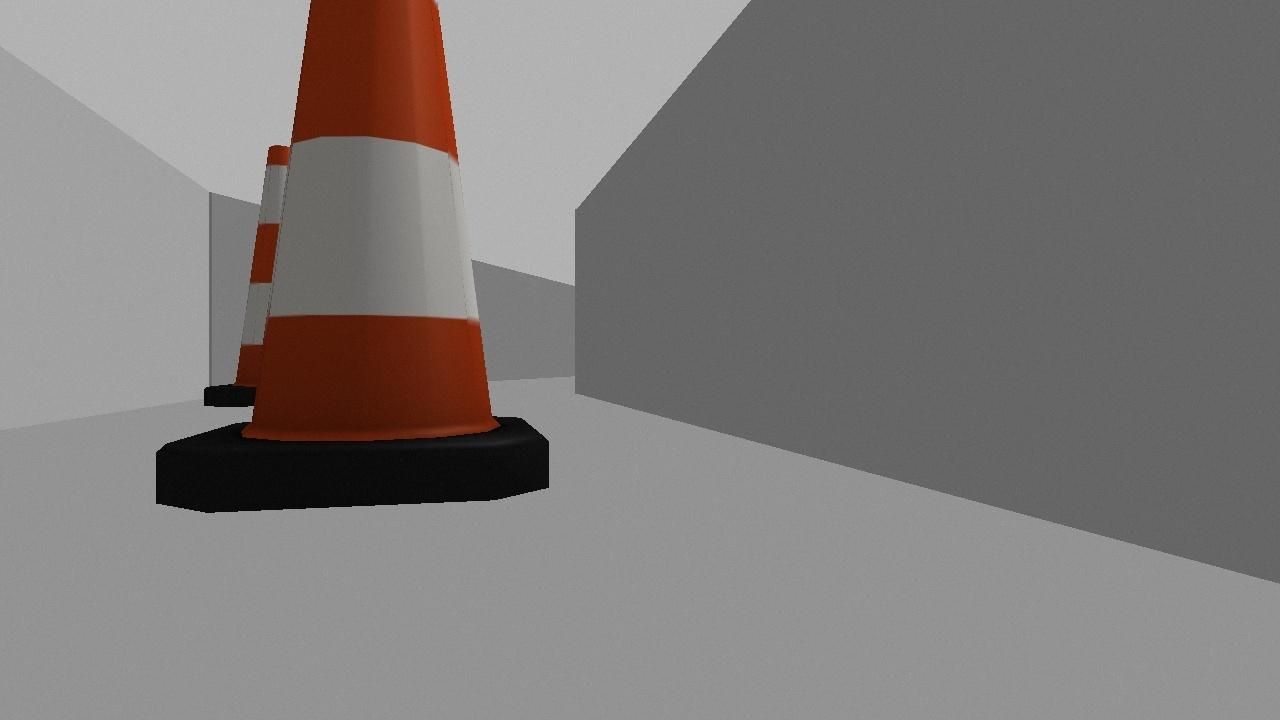cone_barrel: (140, 0, 561, 523), (194, 131, 324, 411)
